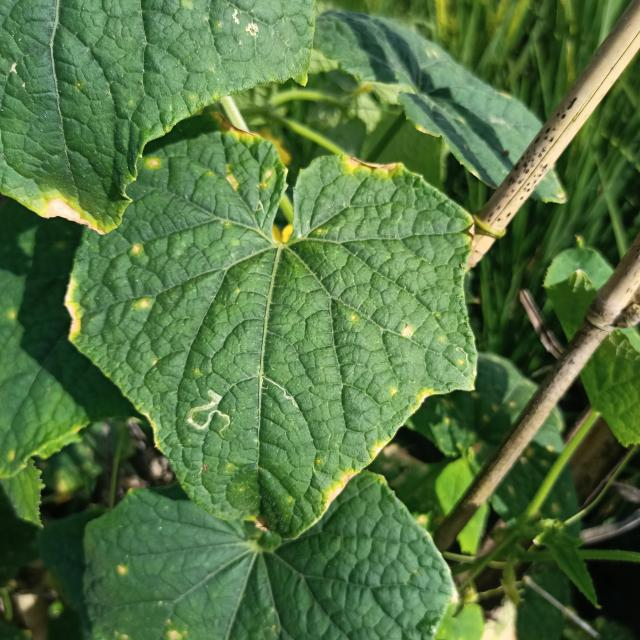disease_cucumber: (219, 127, 276, 199), (384, 380, 436, 410), (400, 322, 416, 339), (139, 296, 152, 312), (131, 243, 143, 257)
